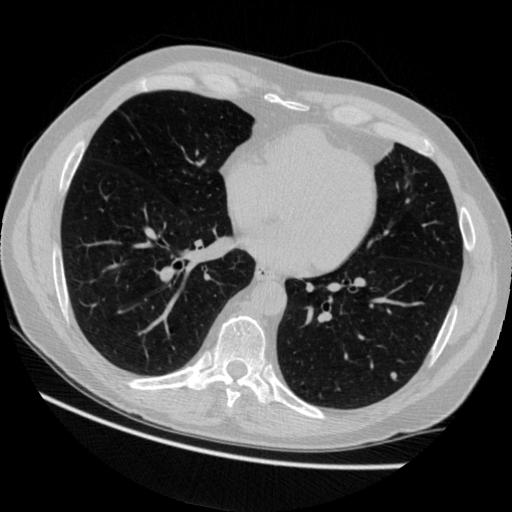nodule: (386, 368, 401, 383)
